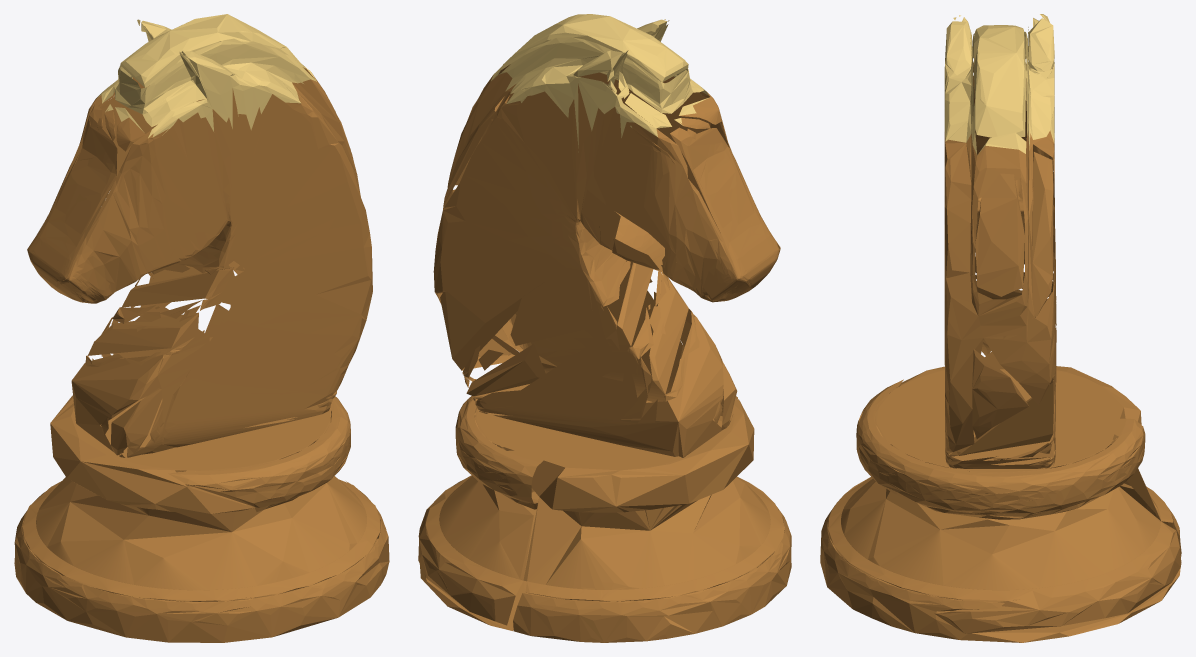
Rendered from gercek3_n_w.glb.
3 views of the same model, side by side, from view 1: azimuth 30°, elevation 25°; view 2: azimuth 150°, elevation 25°; view 3: azimuth 270°, elevation 25° (orthographic).
Parts seen in each view (by area): view 1: world; view 2: world; view 3: world.
Boxes of the visible parts, x1=… form: world: x1=14, y1=14, x2=389, y2=642; world: x1=418, y1=14, x2=791, y2=642; world: x1=820, y1=14, x2=1181, y2=642.
Bounding box in the file's own units: 0.5666 × 0.8998 × 0.5533.
